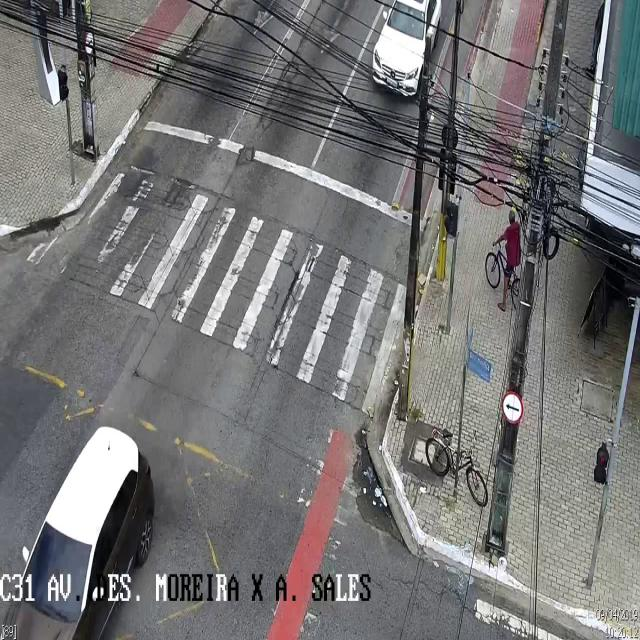Car: (4, 422, 154, 639), (368, 0, 442, 100)
